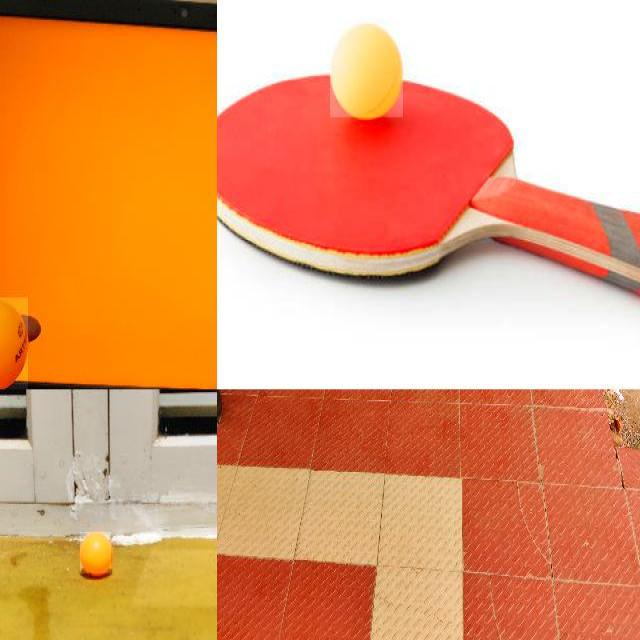ping-pong-ball: (331, 25, 404, 119), (0, 297, 30, 388), (80, 532, 112, 575)
